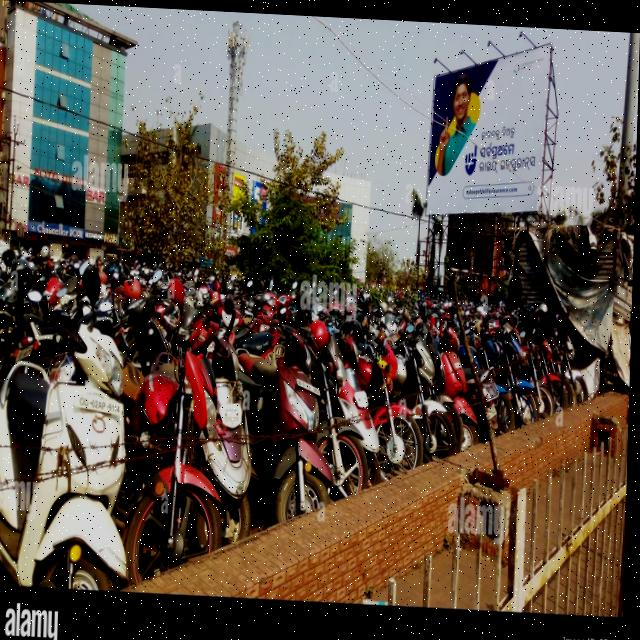plate: (75, 389, 127, 418), (220, 396, 246, 426), (299, 373, 324, 395), (354, 383, 370, 406)
